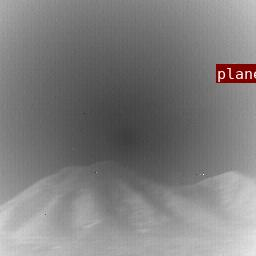plane: (216, 64, 237, 81)
